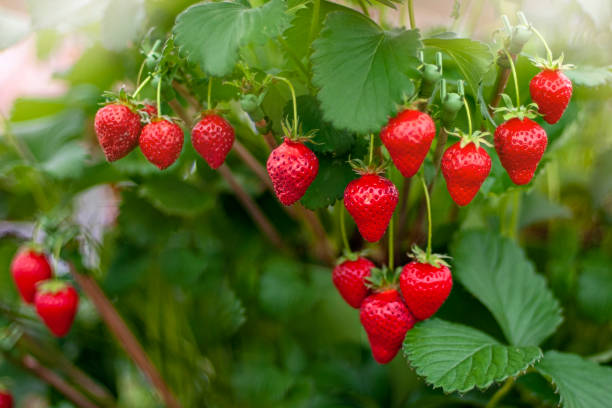Fresa: (357, 276, 423, 367), (341, 163, 400, 246), (379, 104, 438, 181), (492, 112, 551, 186), (266, 132, 323, 208), (399, 245, 452, 324), (89, 93, 145, 167), (439, 134, 492, 211), (527, 61, 575, 127), (189, 109, 240, 171), (328, 251, 378, 312), (33, 281, 82, 339), (137, 114, 185, 172)
